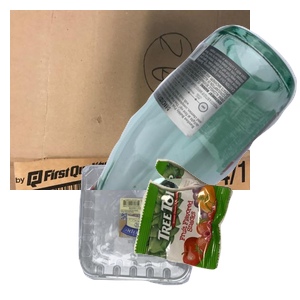cardboard: (10, 10, 250, 190)
glass: (86, 22, 300, 202)
plastic: (76, 162, 264, 300)
trash: (131, 156, 300, 300)
